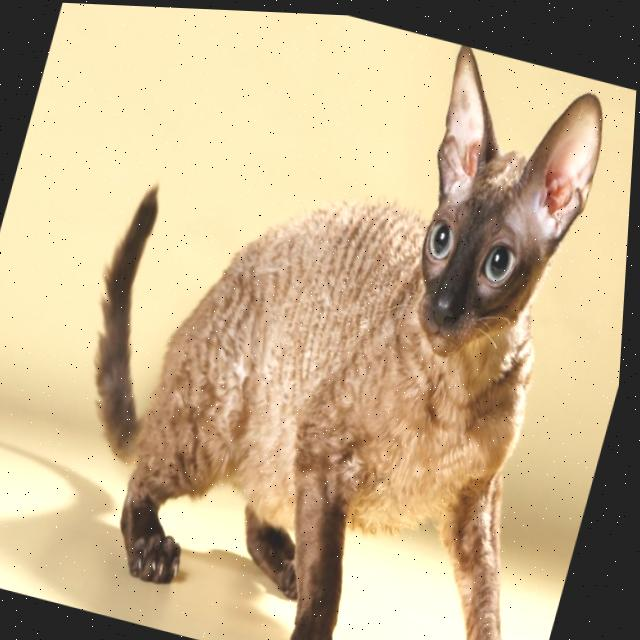Cornish Rex: (17, 2, 640, 640)
